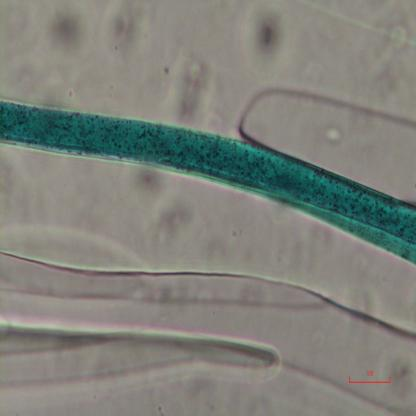Air bubble: (239, 83, 416, 195)
Background material: (0, 247, 416, 414), (248, 3, 289, 74), (106, 0, 149, 66), (174, 51, 210, 125), (154, 192, 196, 246), (46, 10, 86, 58), (132, 166, 164, 207)
Microfibre: (0, 98, 416, 266)
